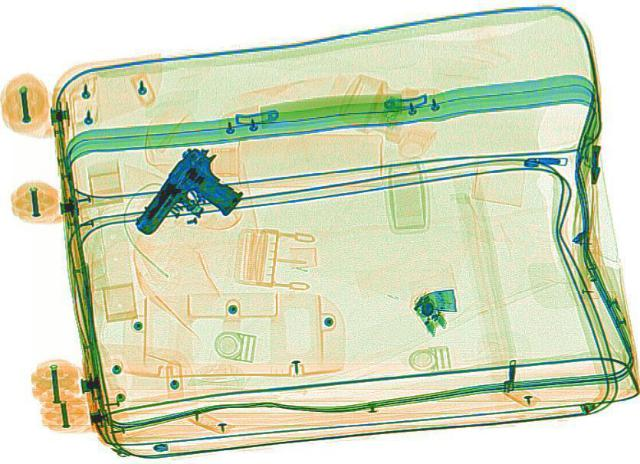Gun: (124, 142, 266, 250)
